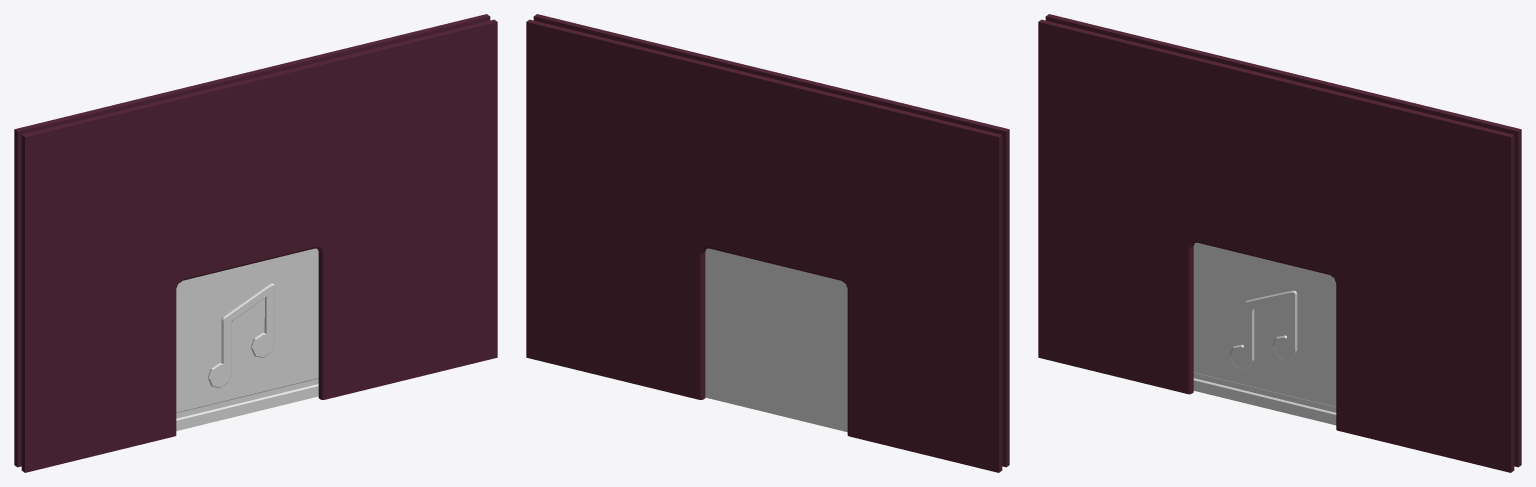
The model's file is nella_irongate 1.fbx.
3 views of the same model, side by side, from view 1: azimuth 30°, elevation 25°; view 2: azimuth 150°, elevation 25°; view 3: azimuth 330°, elevation 25° (orthographic).
Parts seen in each view (by area): view 1: door frame, iron door, nella_sign; view 2: door frame, iron door; view 3: door frame, iron door, nella_sign.
Part boxes in pixels (x1=…): door frame: x1=14, y1=14, x2=497, y2=472; iron door: x1=176, y1=248, x2=318, y2=430; nella_sign: x1=207, y1=283, x2=274, y2=387; door frame: x1=526, y1=14, x2=1009, y2=472; iron door: x1=705, y1=248, x2=847, y2=432; door frame: x1=1038, y1=14, x2=1521, y2=472; iron door: x1=1193, y1=242, x2=1336, y2=425; nella_sign: x1=1230, y1=290, x2=1297, y2=369.
Bounding box in the file's own units: 36.84 × 25 × 1.46.
